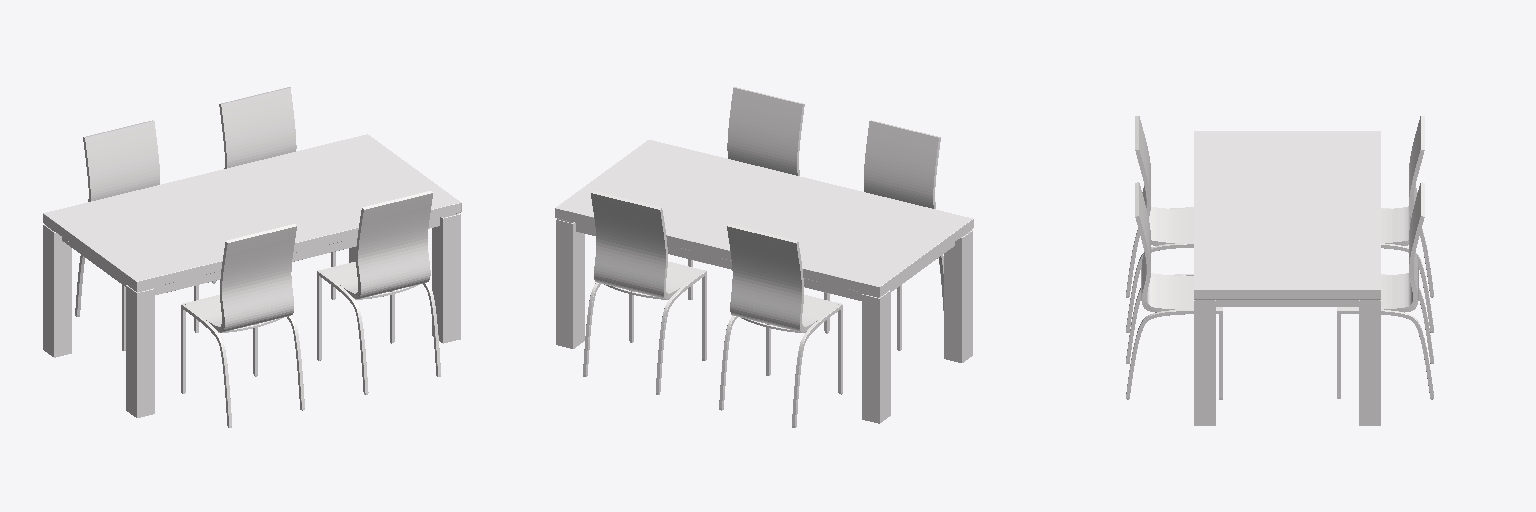
Rendered from table.obj.
3 views of the same model, side by side, from view 1: azimuth 30°, elevation 25°; view 2: azimuth 150°, elevation 25°; view 3: azimuth 270°, elevation 25° (orthographic).
Visible parts, largest first — view 1: table; view 2: table; view 3: table.
Part boxes in pixels (left/top/right/bottom): table: left=43, top=87, right=461, bottom=427; table: left=555, top=87, right=973, bottom=427; table: left=1126, top=116, right=1433, bottom=425.
Size of the model in its own units: 78.74 by 42.31 by 64.71.